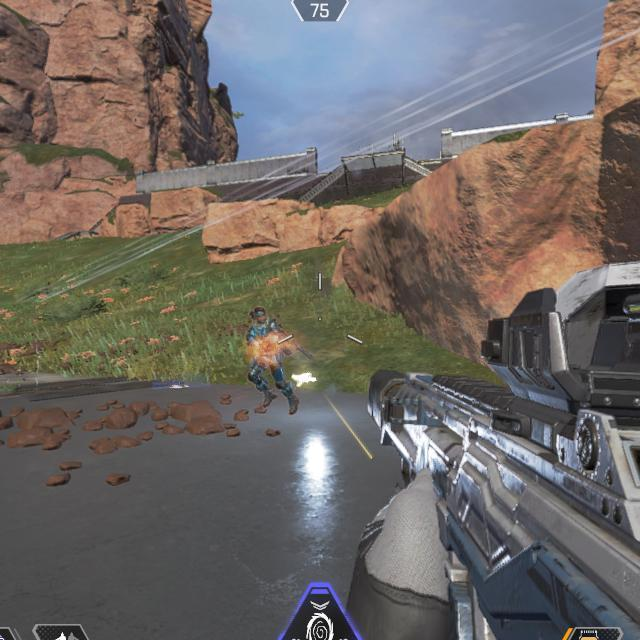avatar: (245, 304, 302, 416)
